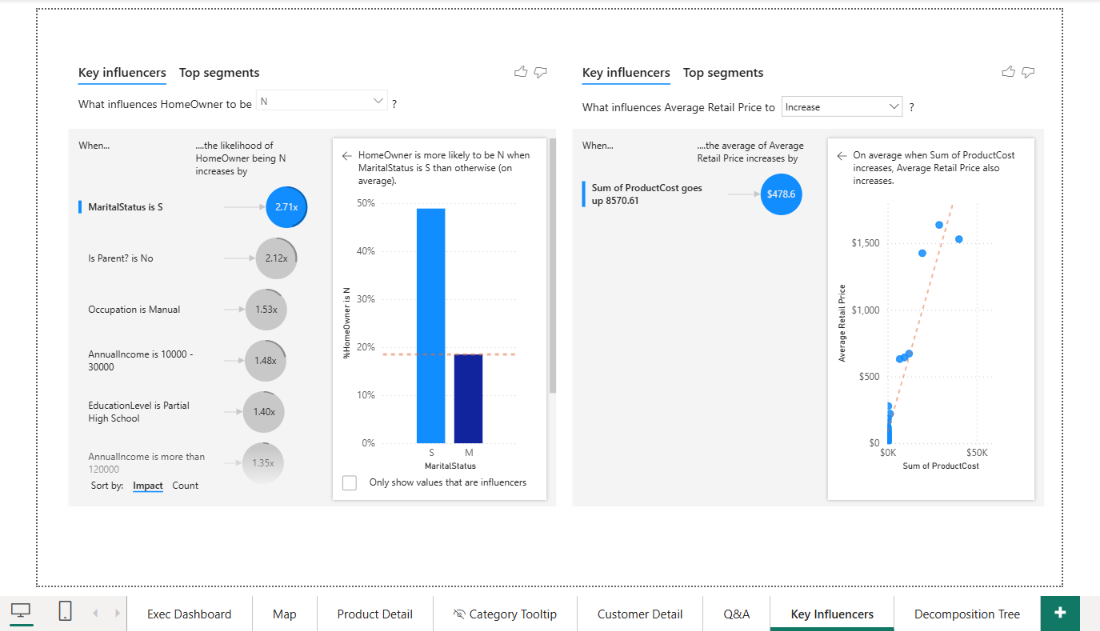

This screenshot's page, from the dashboard's own definition file:
{"tool":"powerbi","page":{"name":"Key Influencers","canvas":[1280,720],"ordinal":6},"visuals":[{"type":"keyDriversVisual","fields":{"Target":["Customer Lookup.HomeOwner"],"ExplainBy":["Customer Lookup.AnnualIncome","Customer Lookup.EducationLevel","Customer Lookup.Is Parent?","Customer Lookup.MaritalStatus","Customer Lookup.Occupation"]},"box":[33.9,54.3,619.4,571.9],"z":0},{"type":"keyDriversVisual","fields":{"ExplainBy":["Sum(Product Lookup.ProductCost)"],"Details":["Product Subcategories Lookup.SubcategoryName"],"Target":["Measure Table.Average Retail Price"]},"box":[663.5,54.3,599.1,571.9],"z":1000}]}

Visuals, with their boxes on the page's 1280x720 design canvas (x1, y1, x2, y2). These are canvas units, not pixel positions in the 1100x631 screenshot, which may show the page scaled, cropped or inside an application window:
keyDriversVisual - Customer Lookup.HomeOwner x Customer Lookup.AnnualIncome: [x1=34, y1=54, x2=653, y2=626]
keyDriversVisual - Sum(Product Lookup.ProductCost) x Product Subcategories Lookup.SubcategoryName: [x1=664, y1=54, x2=1263, y2=626]
